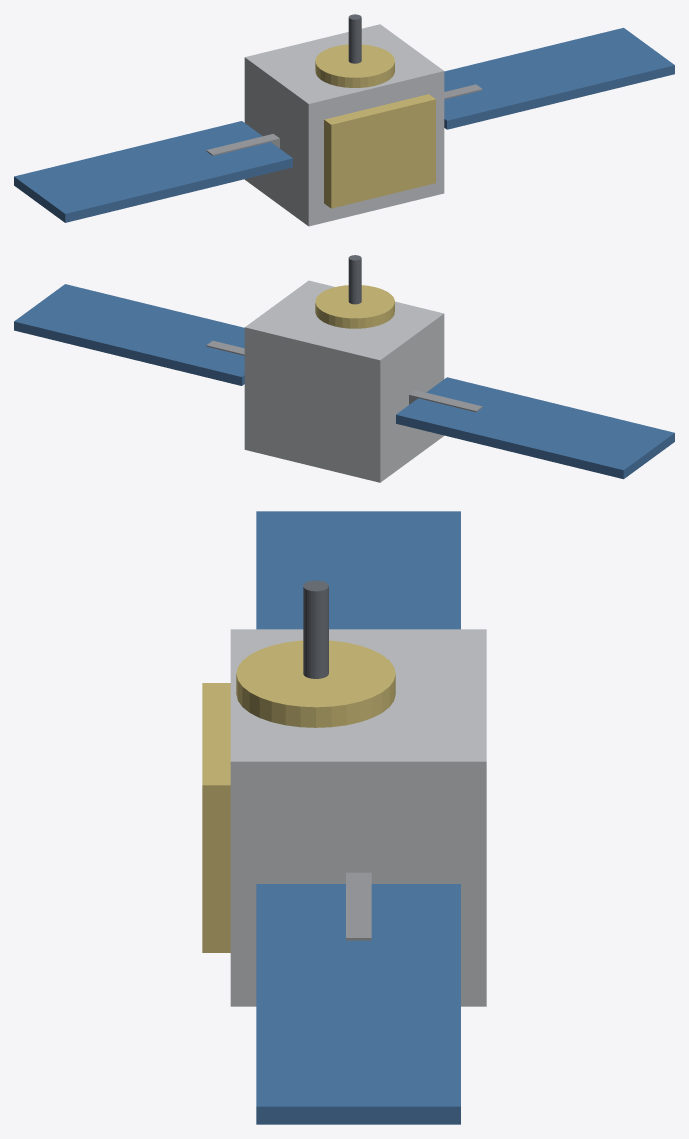
The model's file is kleo_satellite_compact.glb.
3 renders of one model, top to bottom at view 1: azimuth 30°, elevation 25°; view 2: azimuth 150°, elevation 25°; view 3: azimuth 270°, elevation 25°, orthographic. The views are drawn at different scales.
Parts seen in each view (by area): view 1: bus, panel_left, panel_right, top_deck, antenna, feed, boom_left; view 2: bus, panel_left, panel_right, antenna, feed, boom_left; view 3: bus, panel_right, panel_left, antenna, top_deck, feed, boom_right.
Part boxes in pixels (bbox=[...]): bus: bbox=[244, 24, 444, 226]; panel_left: bbox=[14, 121, 292, 222]; panel_right: bbox=[444, 27, 674, 129]; top_deck: bbox=[324, 94, 435, 208]; antenna: bbox=[315, 44, 394, 87]; feed: bbox=[348, 14, 361, 63]; boom_left: bbox=[206, 134, 279, 155]; bus: bbox=[244, 280, 444, 482]; panel_left: bbox=[396, 377, 674, 479]; panel_right: bbox=[14, 284, 244, 385]; antenna: bbox=[315, 285, 394, 328]; feed: bbox=[348, 255, 361, 304]; boom_left: bbox=[409, 390, 482, 412]; bus: bbox=[230, 629, 486, 1006]; panel_right: bbox=[256, 884, 460, 1124]; panel_left: bbox=[256, 511, 460, 629]; antenna: bbox=[236, 640, 395, 727]; top_deck: bbox=[202, 683, 230, 952]; feed: bbox=[303, 580, 328, 678]; boom_right: bbox=[346, 872, 371, 940].
Bounding box in the file's own units: 4.95 × 1.37 × 1.
